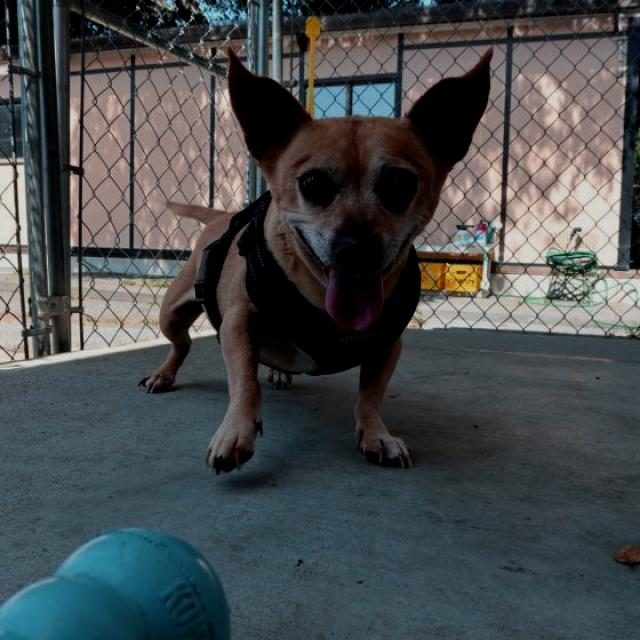chihuahua_dog: (222, 31, 496, 337)
